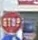stop: (0, 9, 23, 33)
